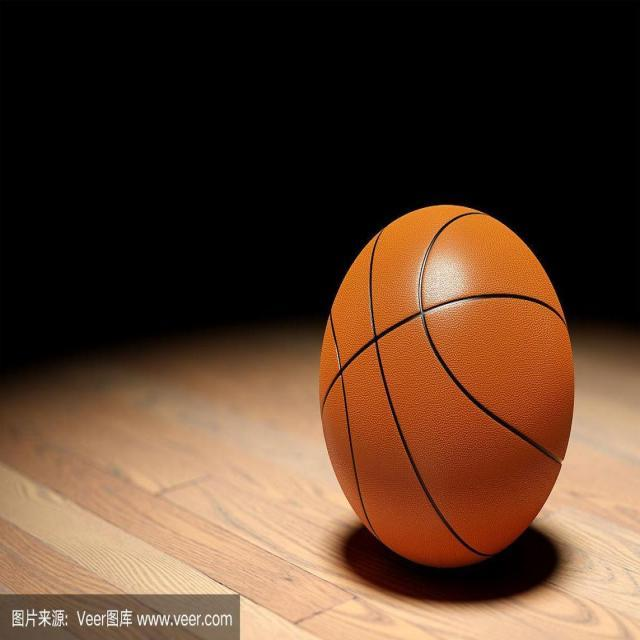rim: (312, 205, 578, 568)
